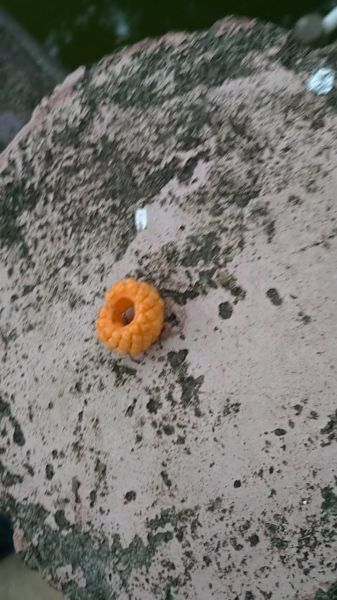eggs: (89, 278, 170, 353)
